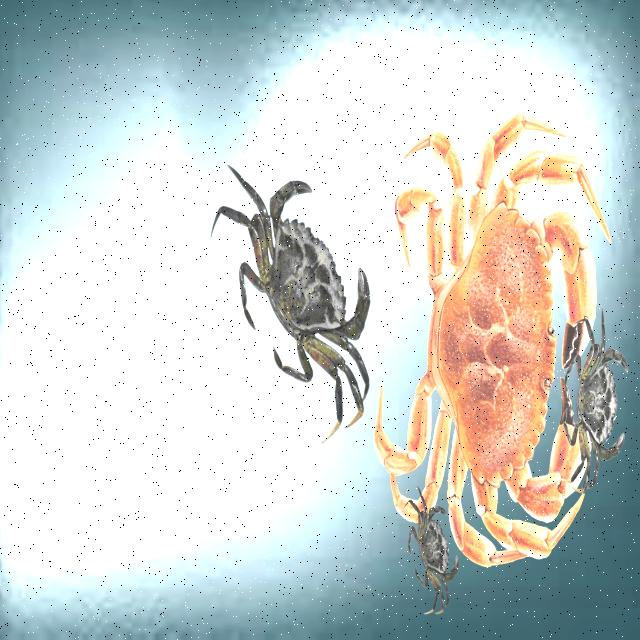European_Green_Crab: (186, 108, 412, 461), (557, 301, 634, 500), (396, 474, 468, 623)
